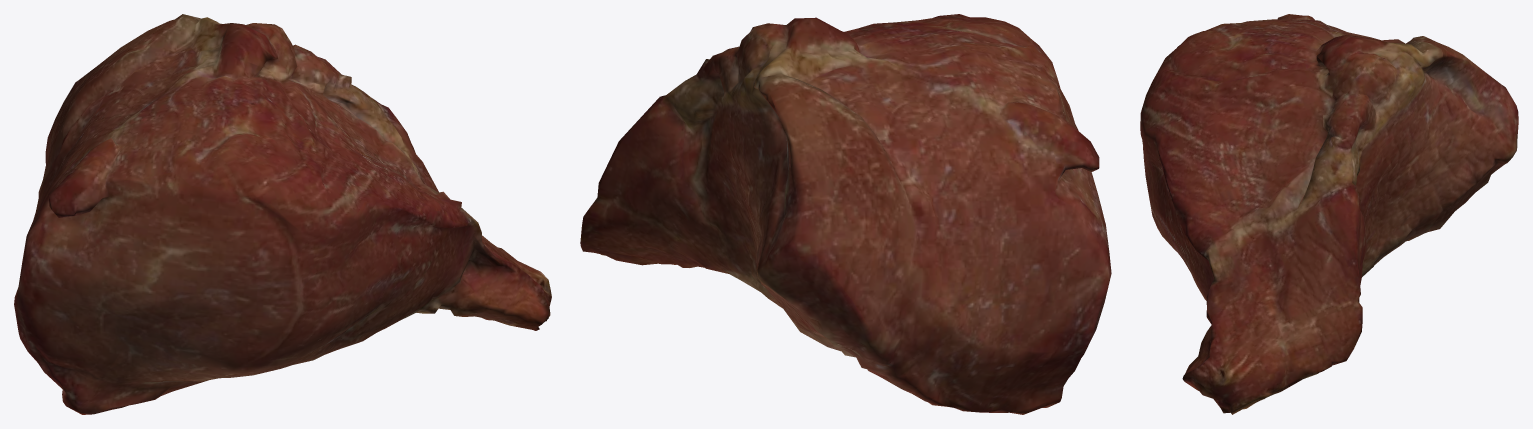
The model's file is meat_d.glb.
The picture shows the model from 3 angles, left to right: view 1: azimuth 30°, elevation 25°; view 2: azimuth 150°, elevation 25°; view 3: azimuth 270°, elevation 25°; orthographic projection. The views are drawn at different scales.
Visible parts, largest first — view 1: weukfcwaa_LOD0_TIER2_000; view 2: weukfcwaa_LOD0_TIER2_000; view 3: weukfcwaa_LOD0_TIER2_000.
Boxes of the visible parts, box(x1,y1,x2,y2) form: weukfcwaa_LOD0_TIER2_000: box(14, 14, 551, 414); weukfcwaa_LOD0_TIER2_000: box(580, 14, 1111, 414); weukfcwaa_LOD0_TIER2_000: box(1140, 14, 1518, 414).
Size of the model in its own units: 0.1726 by 0.108 by 0.1268.
Materials: 1 (1 with a texture image).
